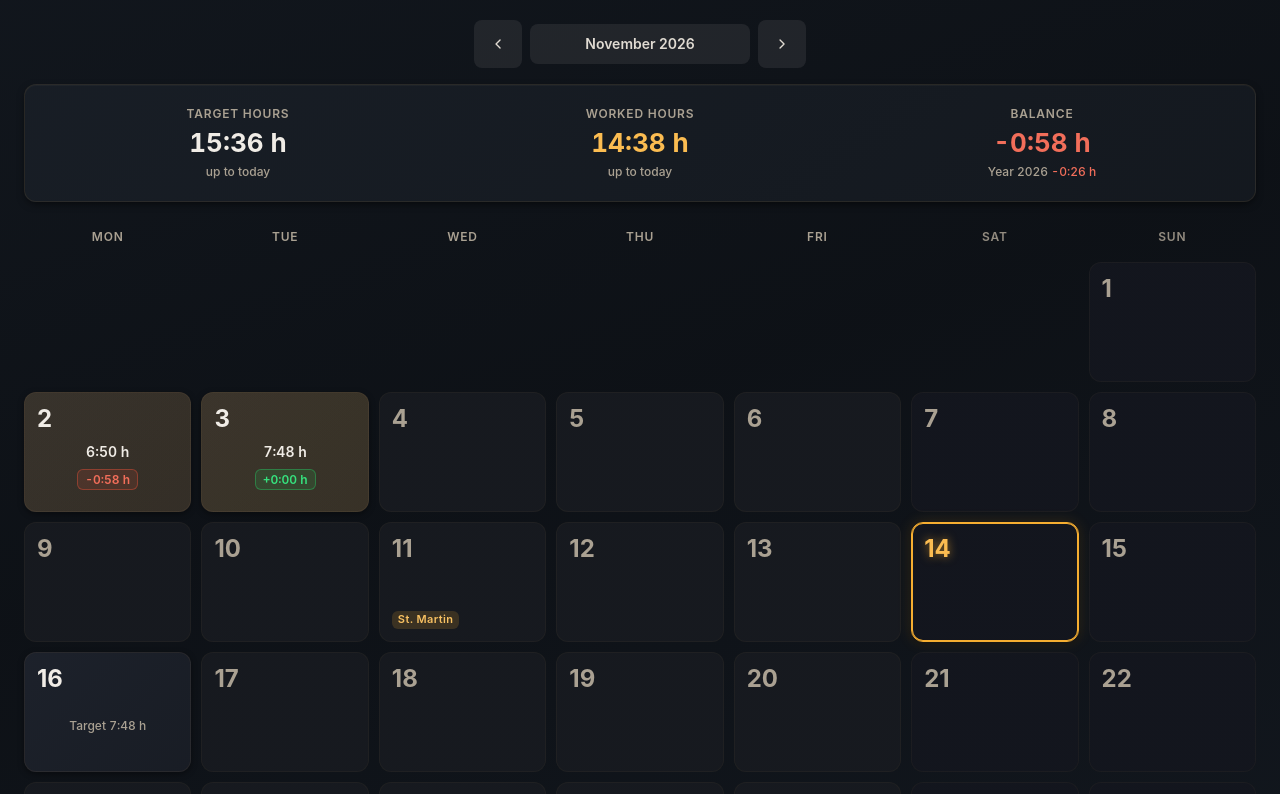
MonthPage › navigates between months without refetching the year and offers a Today shortcut
Expected: the element named "Statistics" is shown, [24,84,1256,202]
Click the button named "Next month": (782,44) [758,20,806,68]
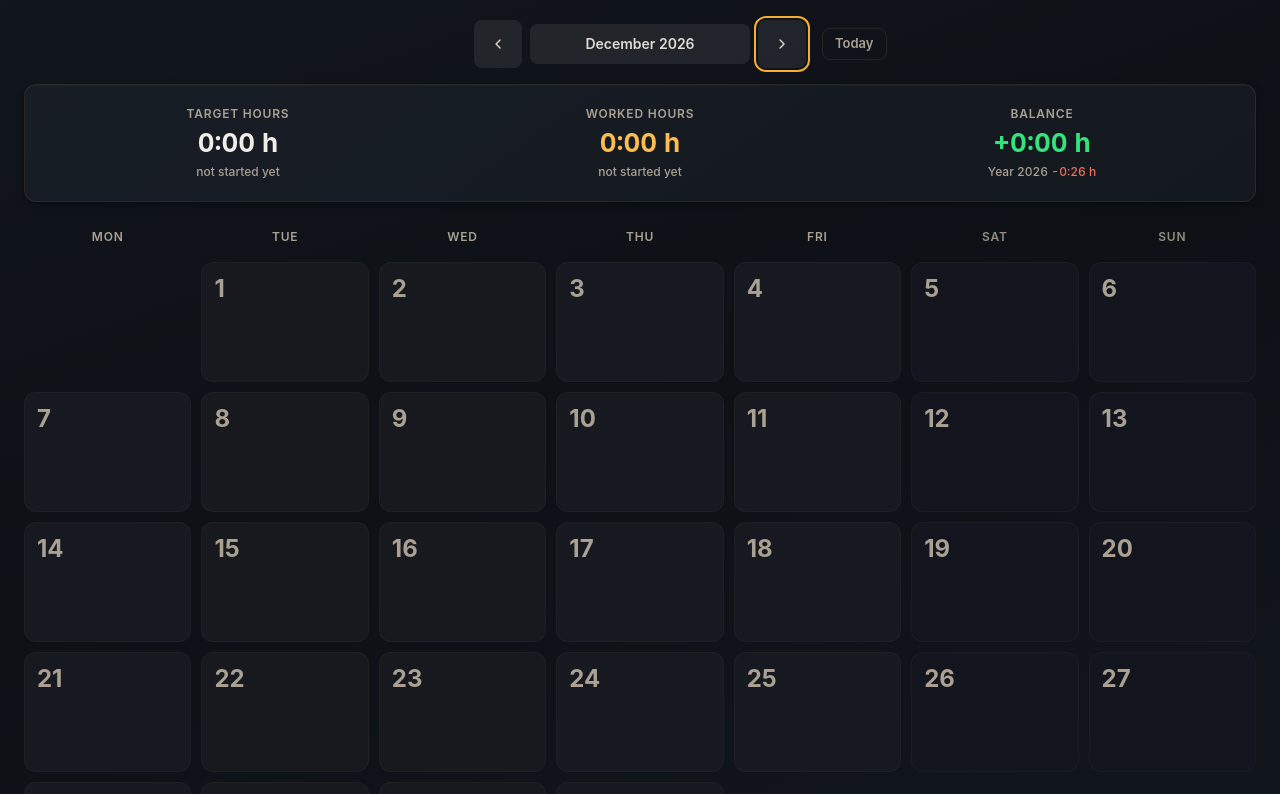
Expected: the button "December 2026" is shown, [530,24,750,64]
Expected: the number of buttons "1" is 31
Click the button "Today": (854,44) [822,28,886,60]
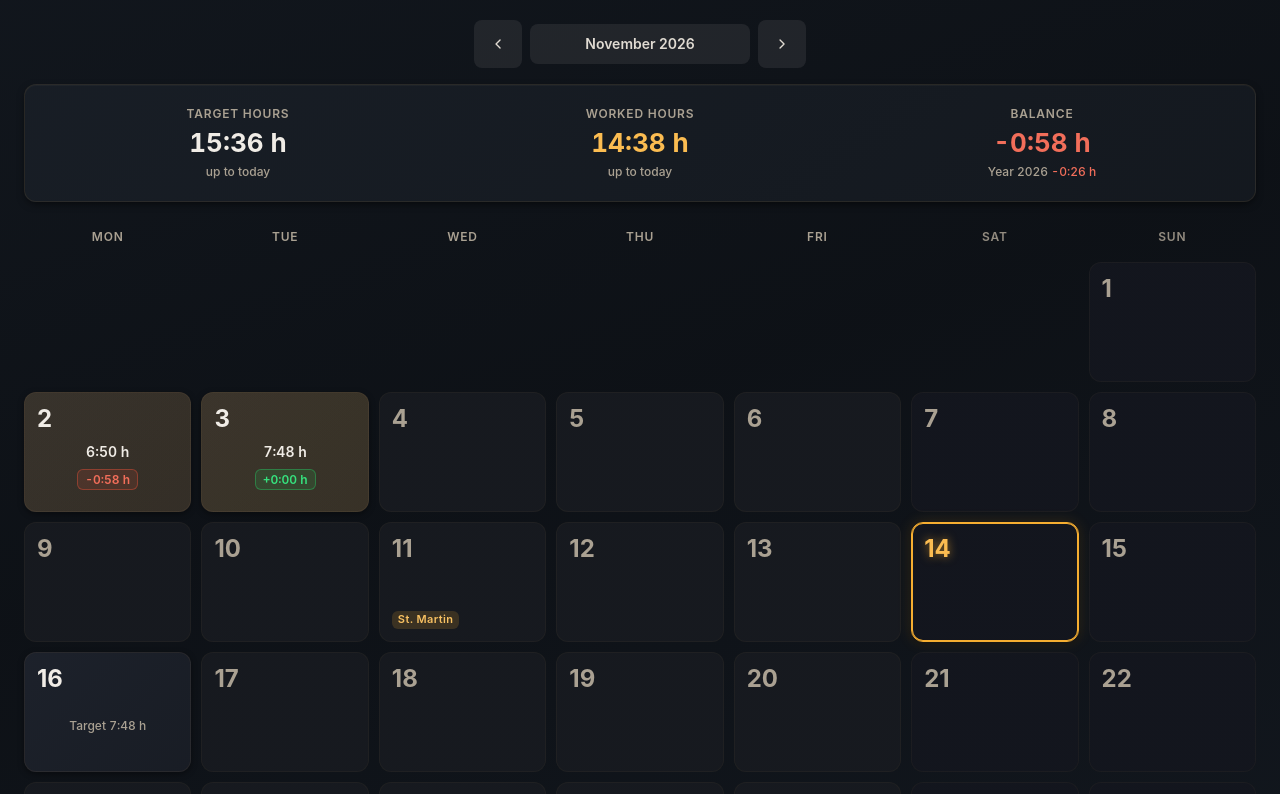
Expected: the button "November 2026" is shown, [530,24,750,64]
